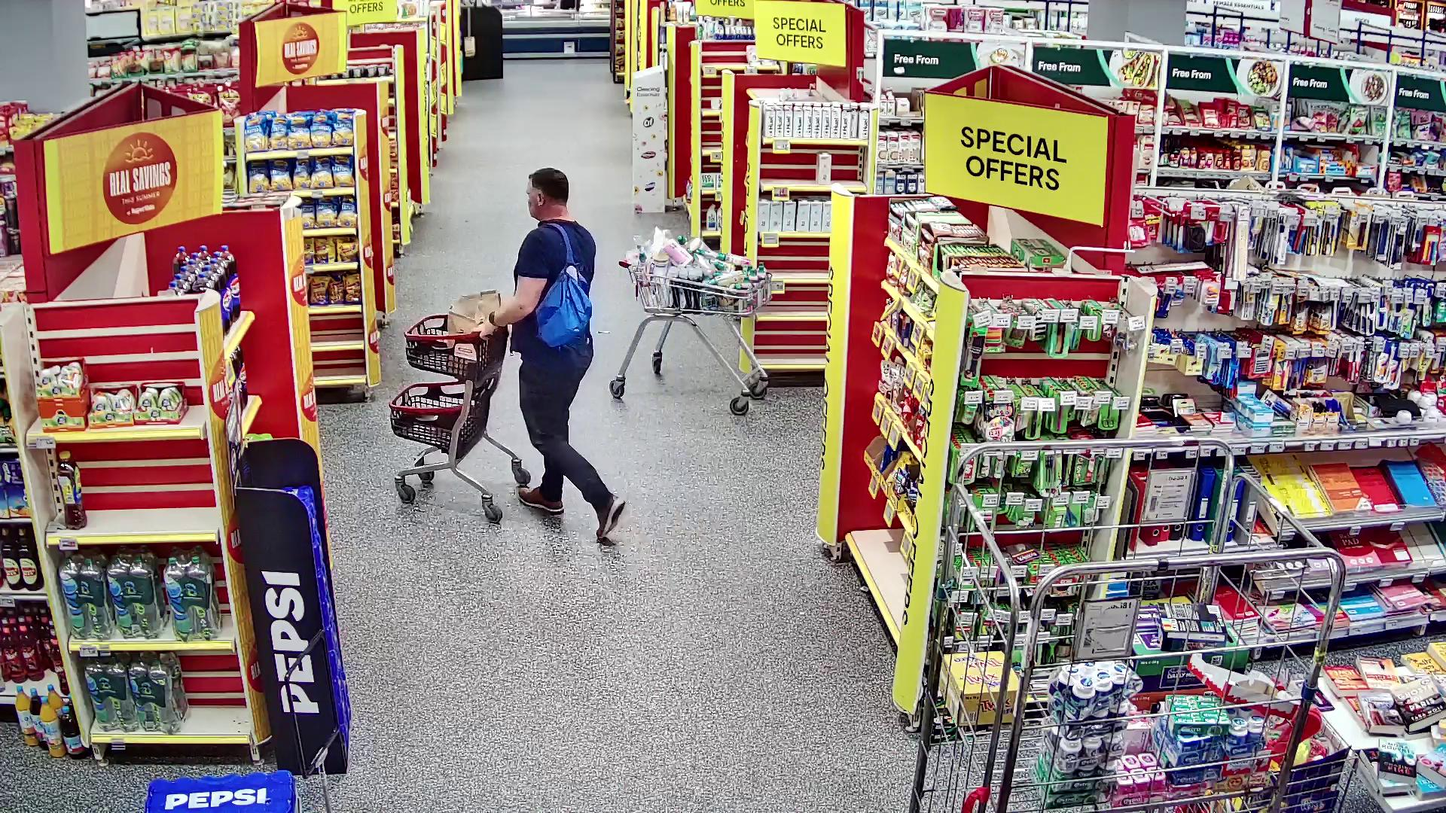backpack-or-handbag: (534, 261, 593, 349)
filled-shopping-bags: (448, 290, 503, 345)
filled-trolly: (390, 313, 531, 522)
person: (479, 167, 627, 542)
person-with-basket-trolly-shopping-bag-s-and-backpack-handbag: (389, 171, 625, 543)
